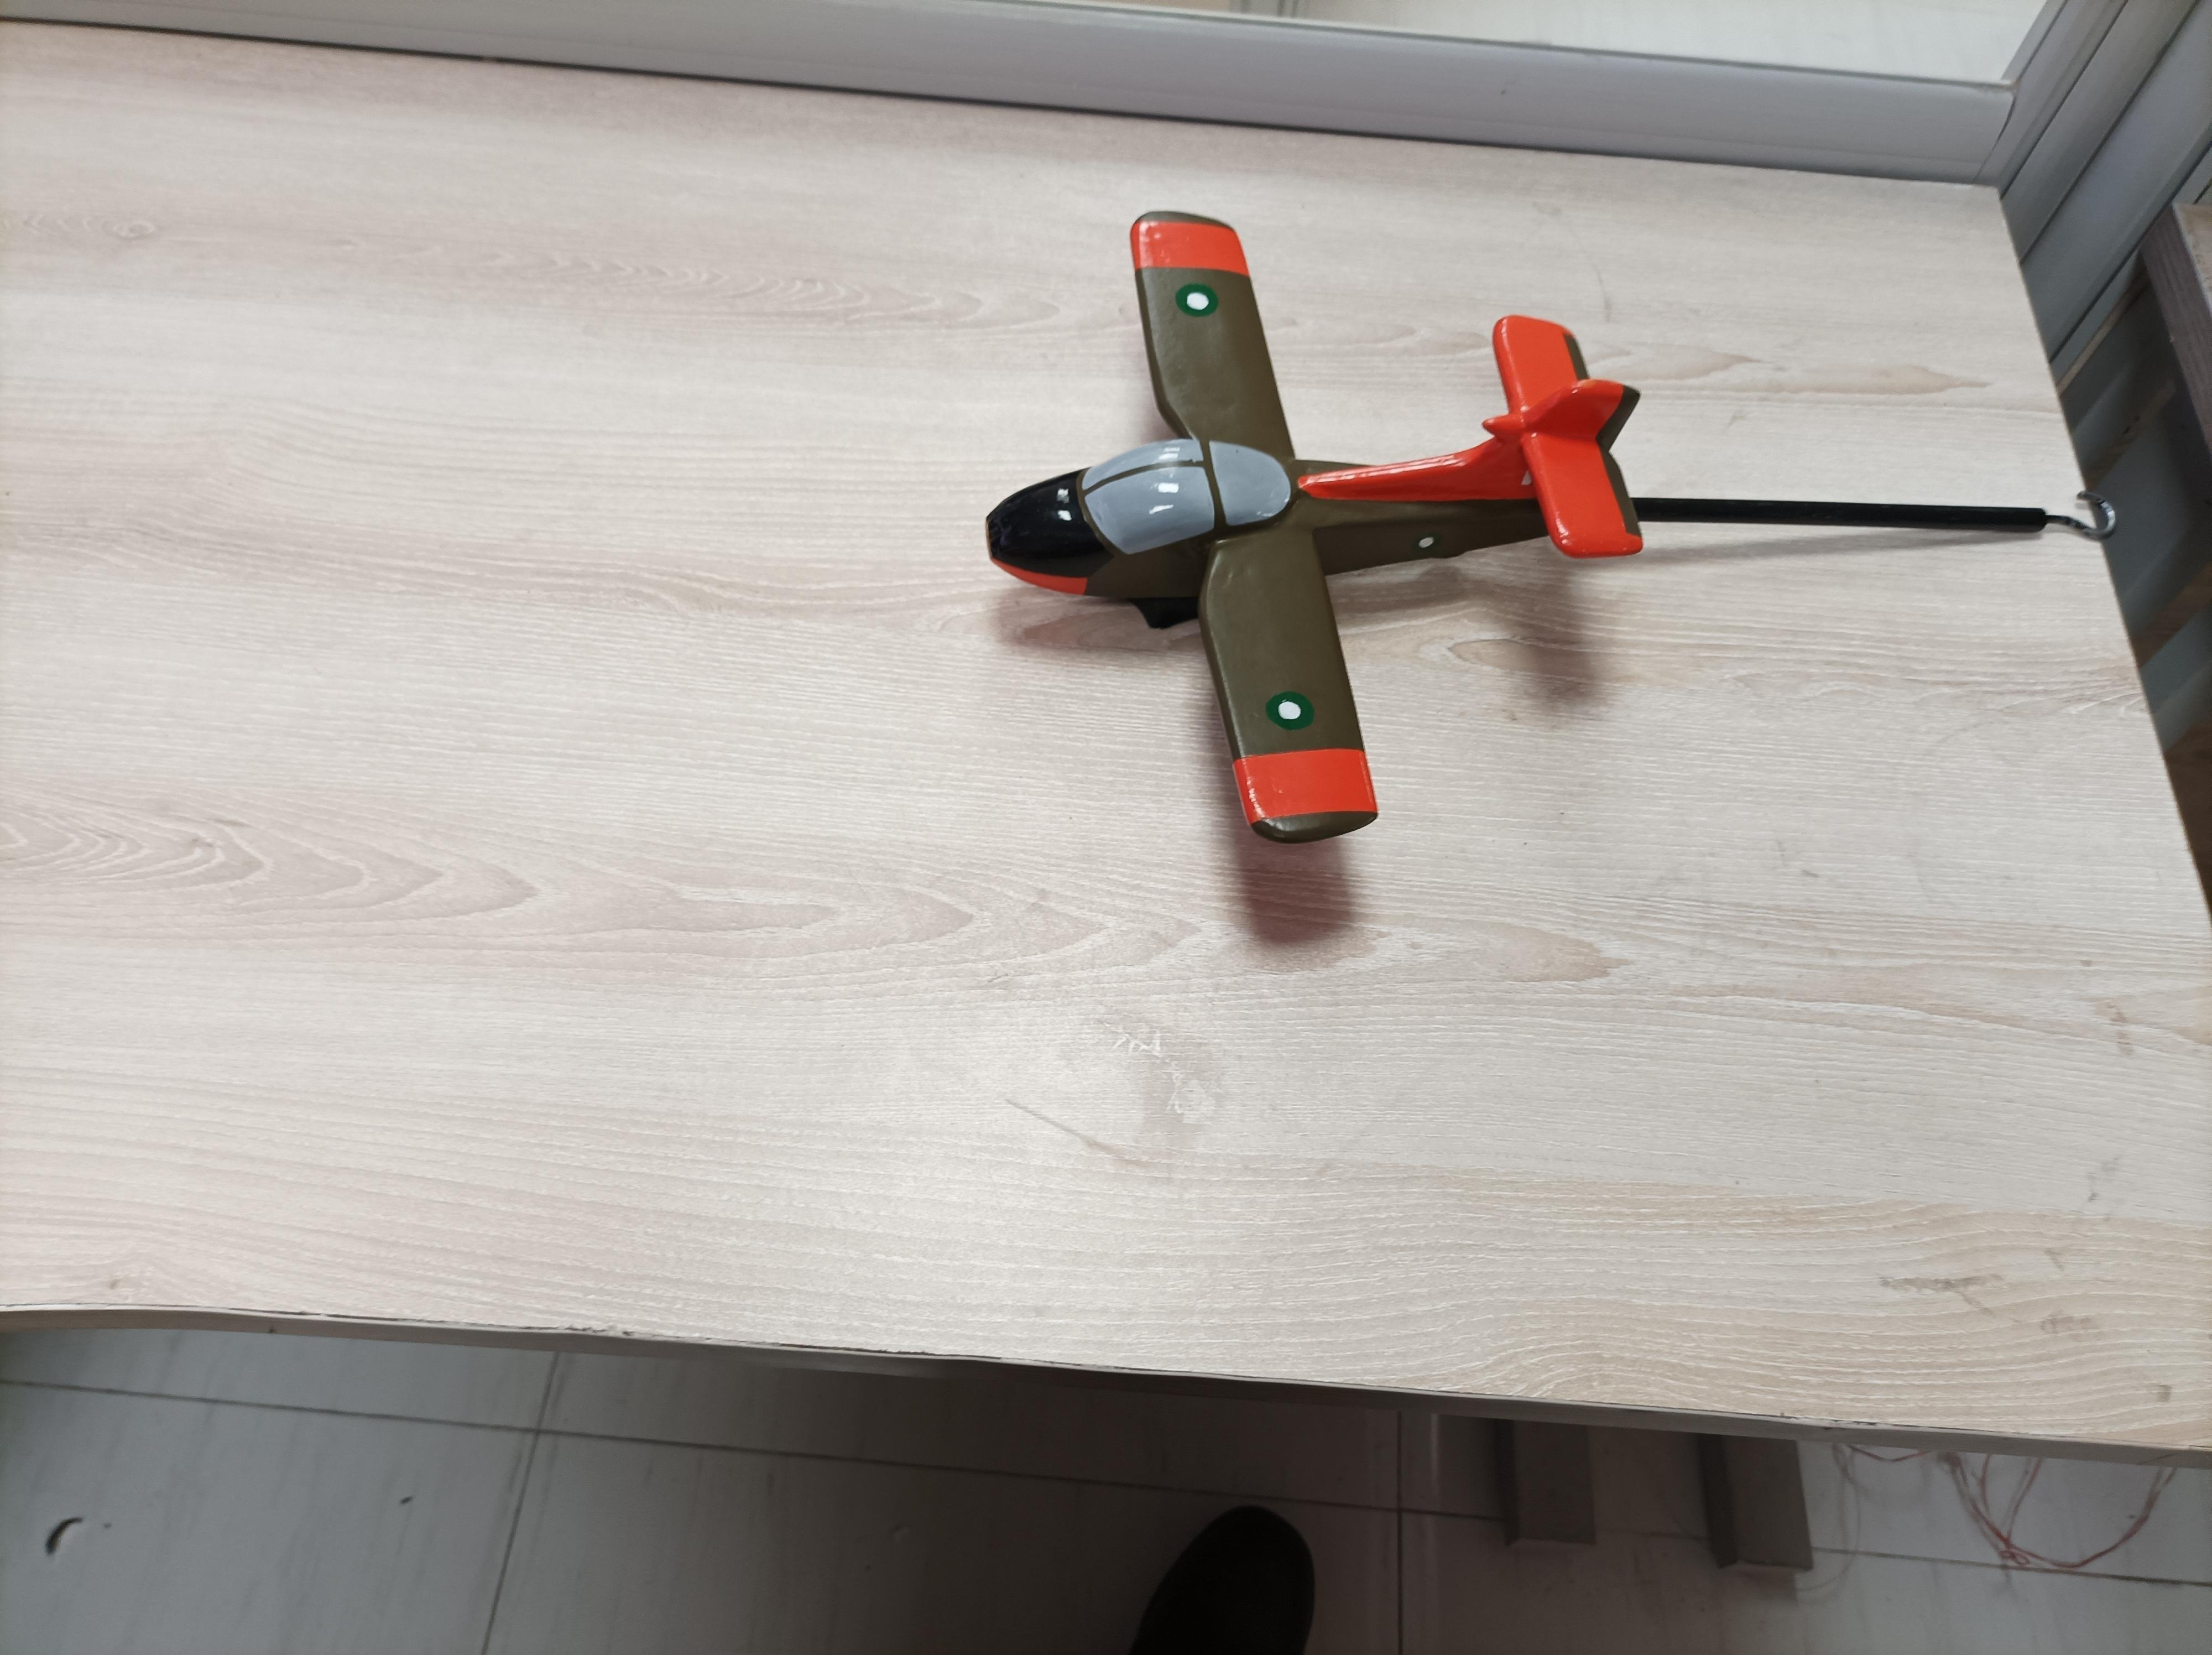Airplane: (940, 186, 1670, 862)
